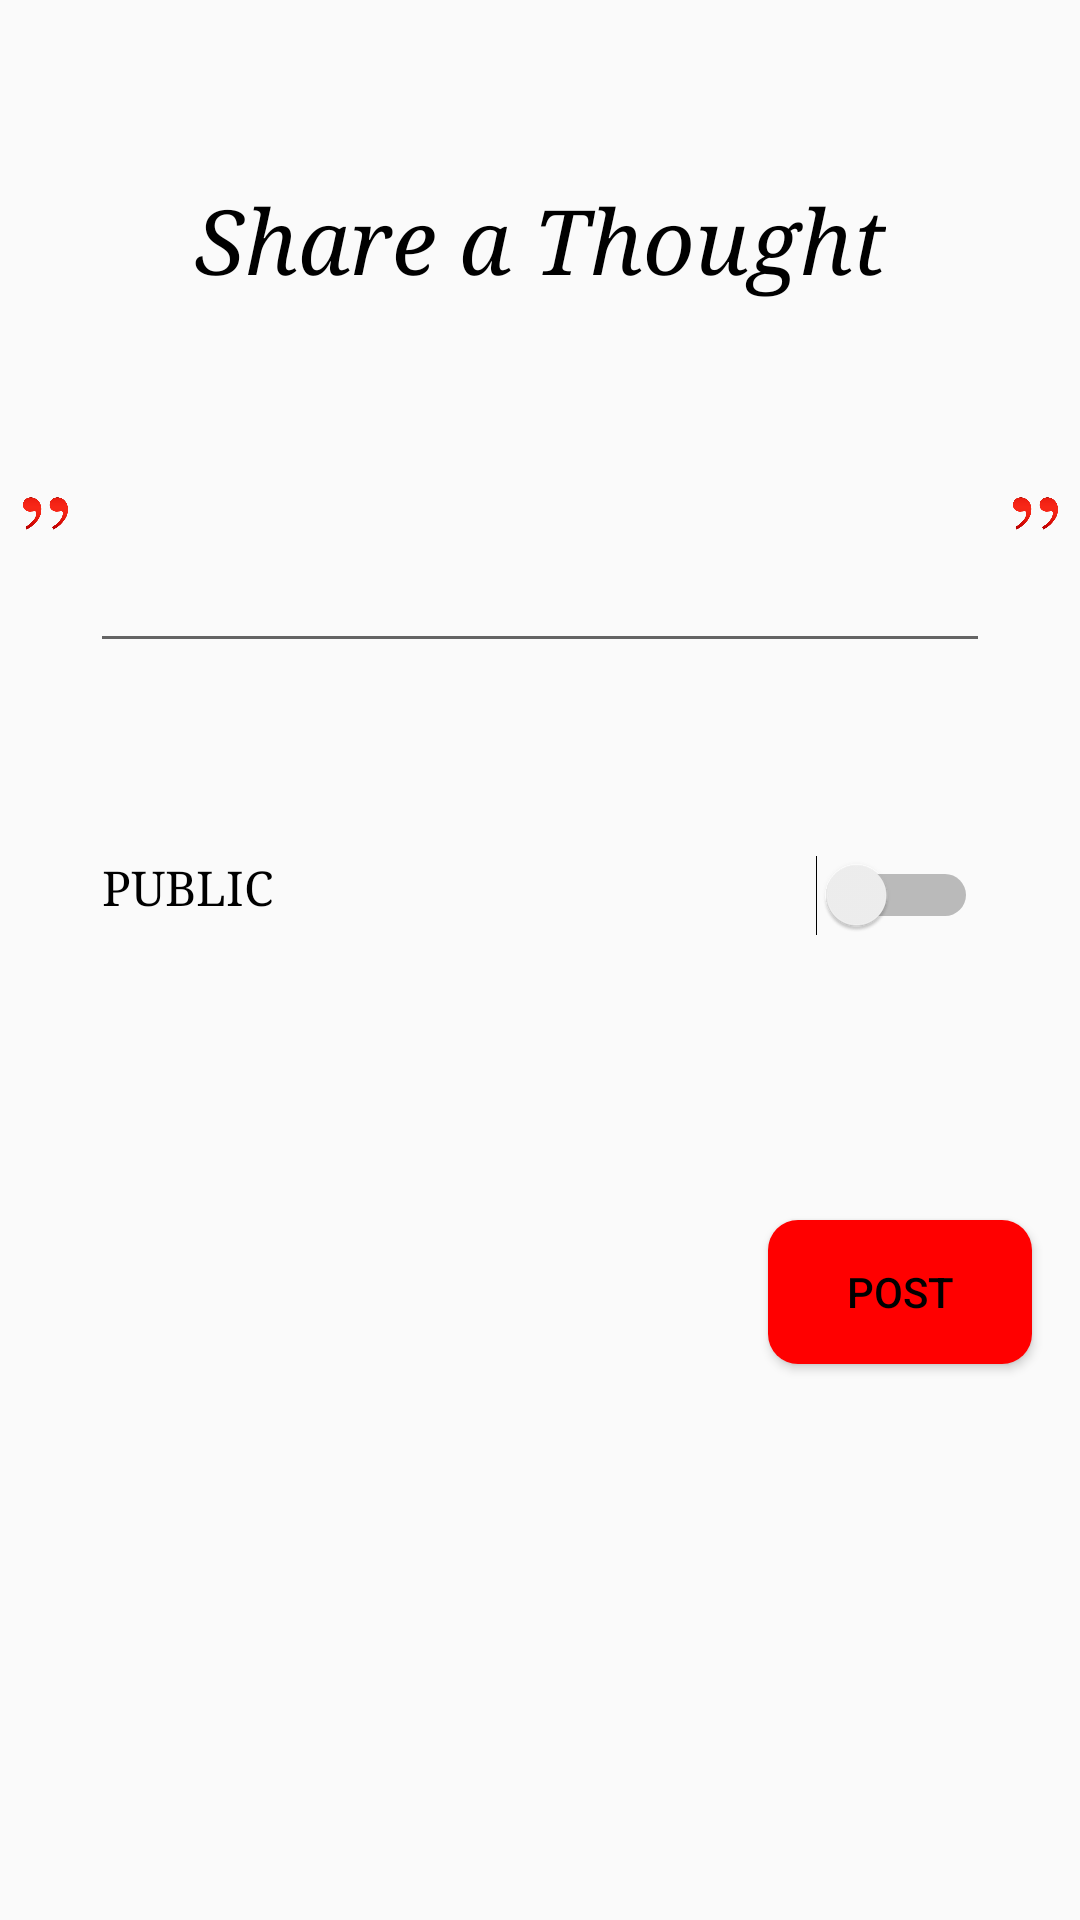

Where icons sit on this 1080px×1920px app screen, as (x1, y1, x2, y2):
quotes: (23, 497, 68, 530), (1013, 497, 1058, 530)
